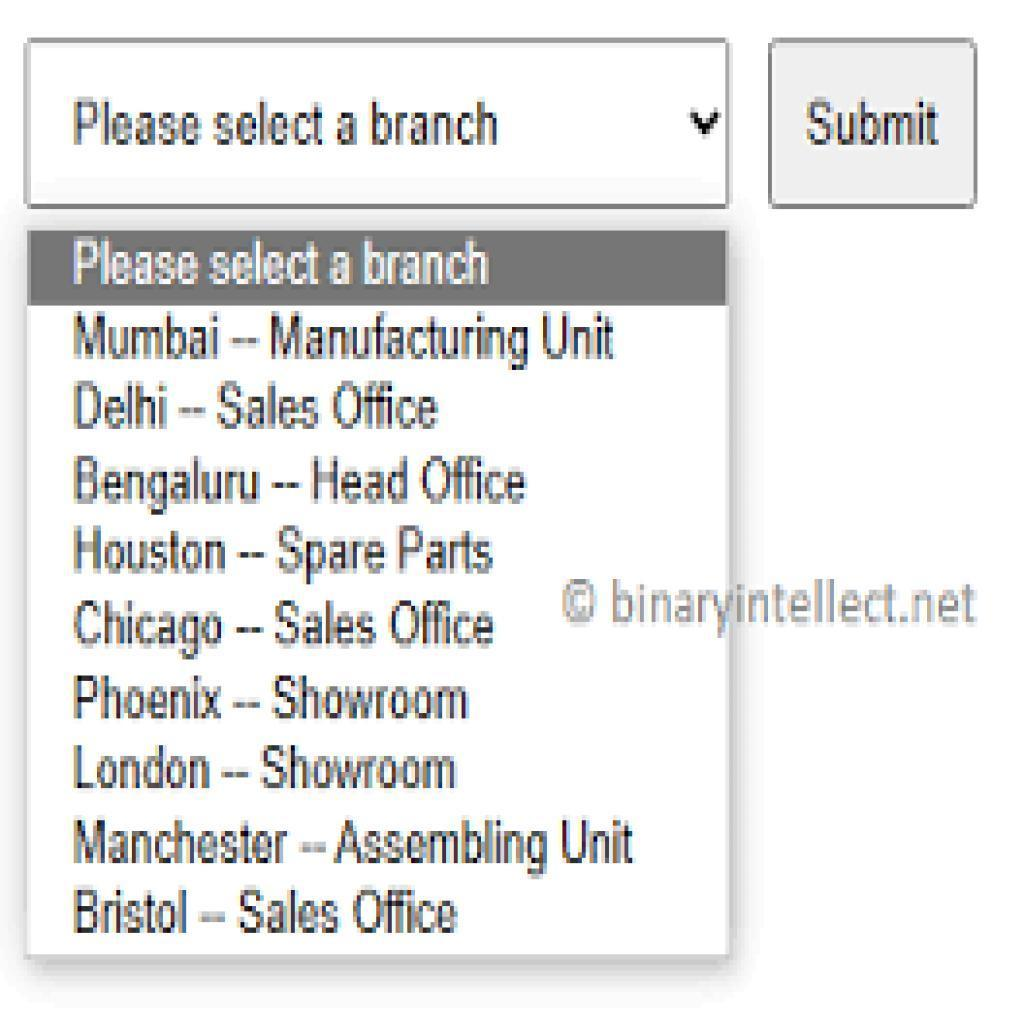button: (770, 40, 976, 209)
dropdown: (25, 40, 732, 210)
